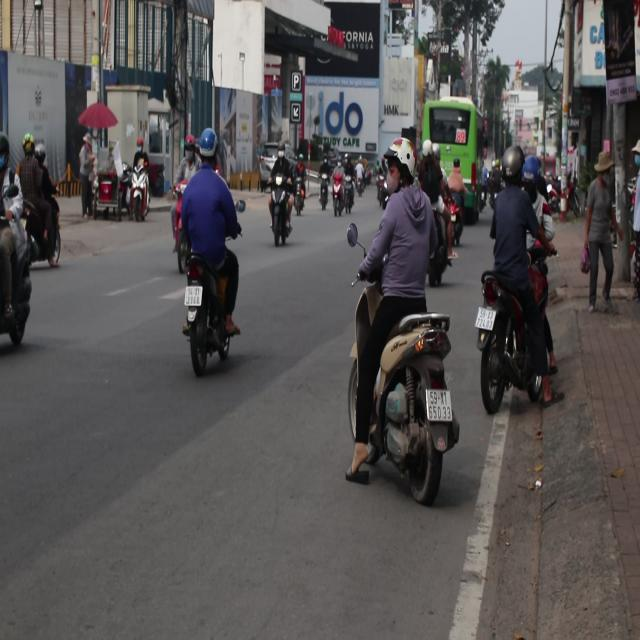bus: (423, 97, 484, 205)
car: (253, 135, 296, 192)
motorbike: (348, 316, 443, 512), (468, 260, 564, 418), (177, 249, 239, 400), (0, 202, 34, 356), (264, 183, 291, 262), (127, 166, 149, 223), (316, 171, 334, 220), (290, 171, 308, 215), (343, 181, 359, 218), (334, 176, 344, 220), (235, 199, 246, 214)
